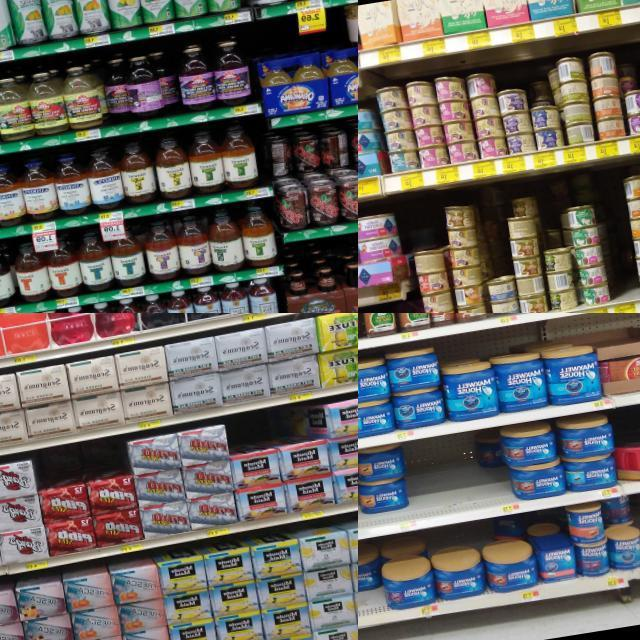empty: (407, 435, 484, 529), (593, 169, 640, 313), (489, 313, 542, 327)
